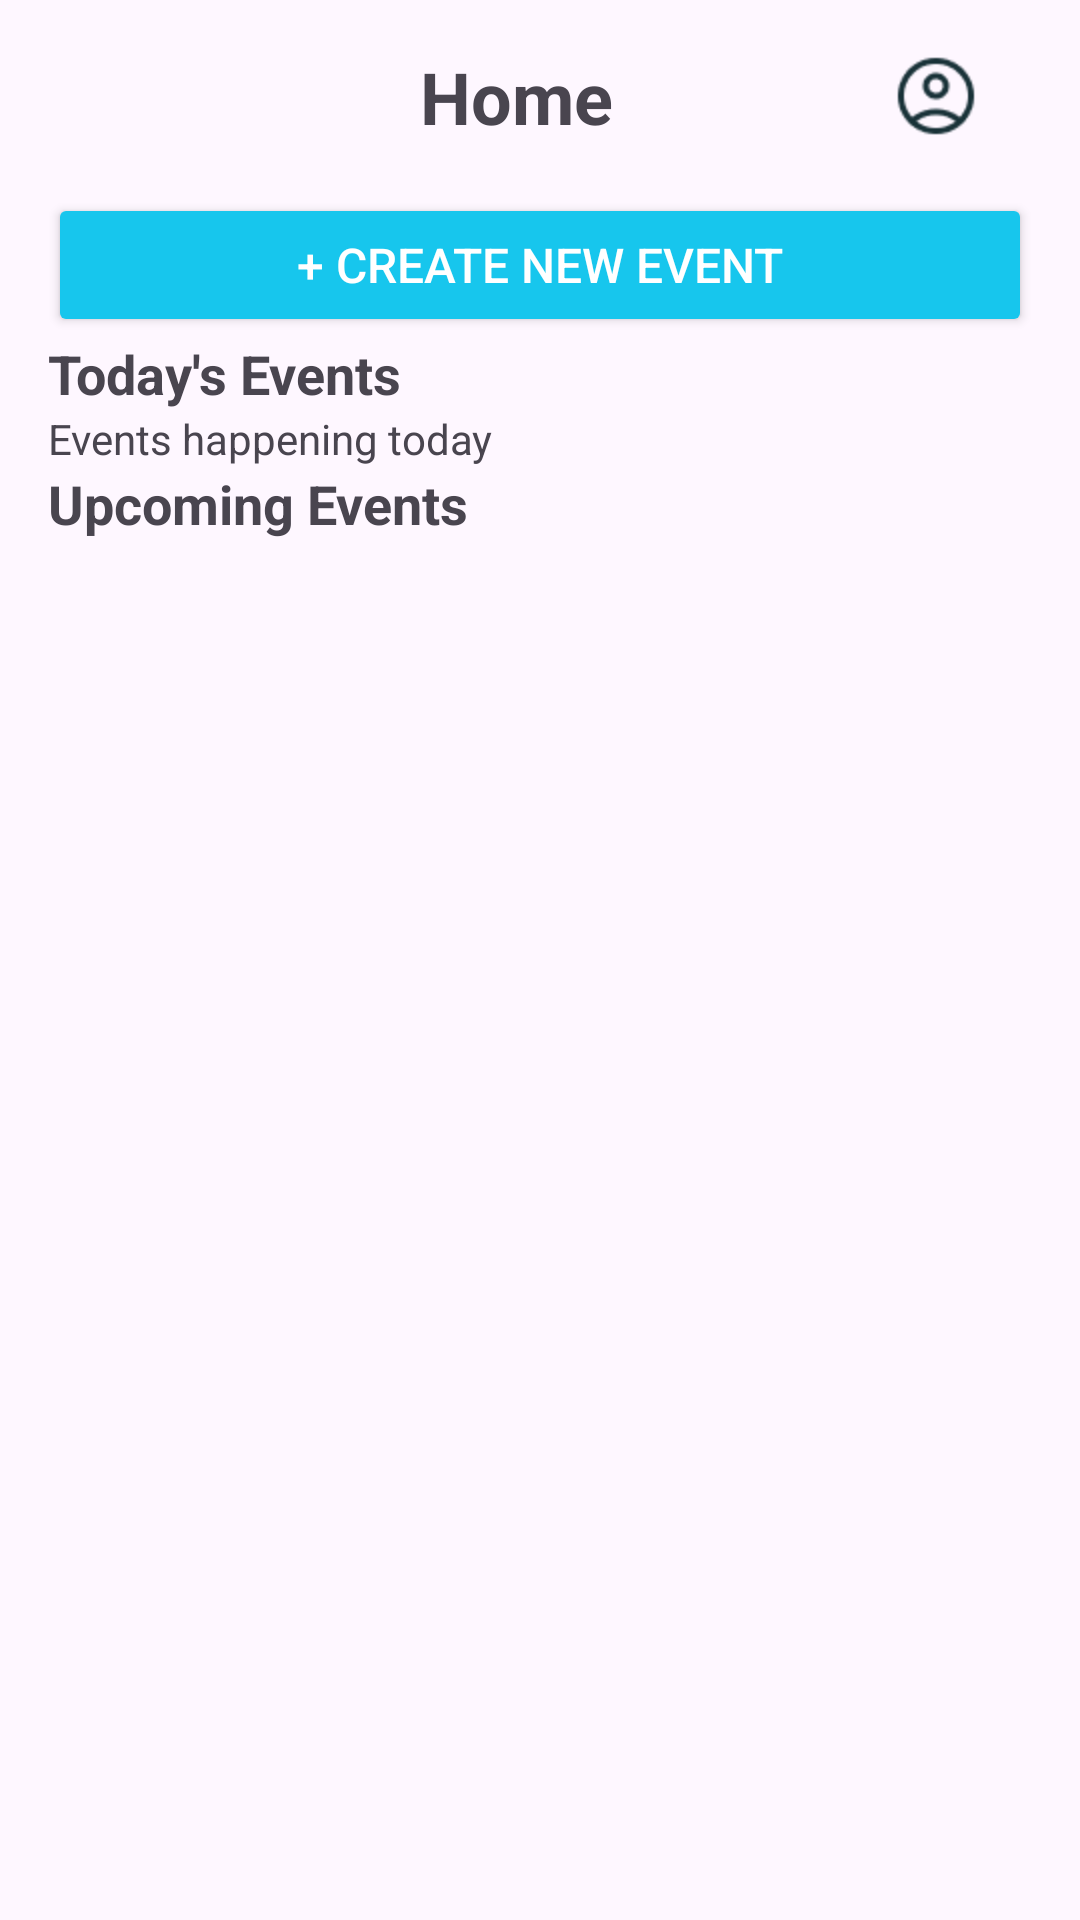

Locate icon controls on the screen. Image size 1080×1920, boxes as (x1, y1, x2, y2).
profile: (897, 57, 975, 135)
